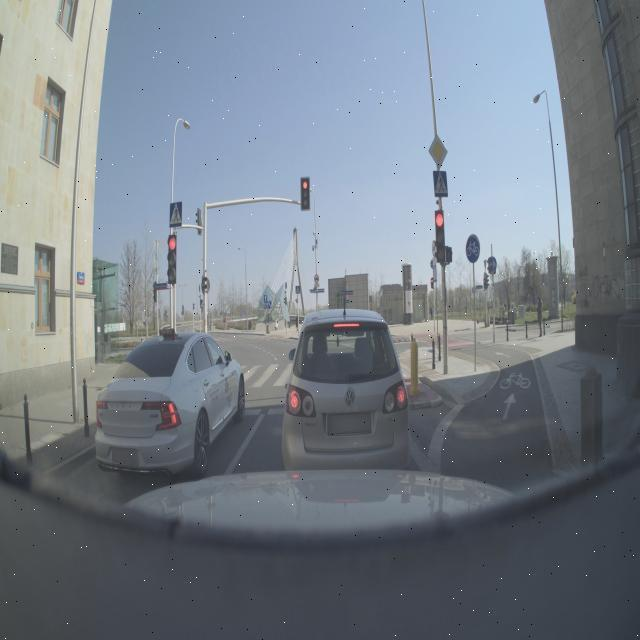red_light: (283, 170, 322, 220), (430, 202, 456, 274), (160, 232, 190, 292)
